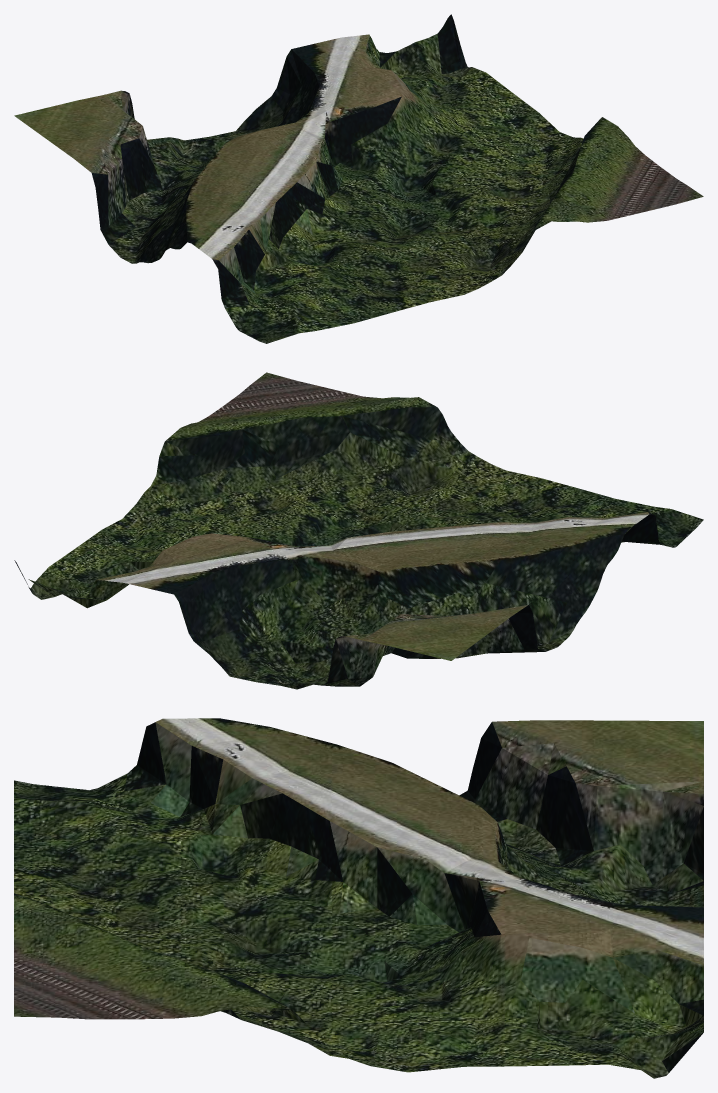
The model's file is map_15_8180_13786.dae.
3 renders of one model, top to bottom at view 1: azimuth 30°, elevation 25°; view 2: azimuth 150°, elevation 25°; view 3: azimuth 270°, elevation 25°, orthographic. The views are drawn at different scales.
Parts seen in each view (by area): view 1: Ter0; view 2: Ter0; view 3: Ter0.
Part boxes in pixels (x1,y1,x2,y2): Ter0: (14, 14, 703, 343); Ter0: (14, 372, 703, 689); Ter0: (14, 718, 703, 1078).
Bounding box in the file's own units: 63.88 × 63.88 × 11.76.
Materials: 3 (3 with a texture image).
